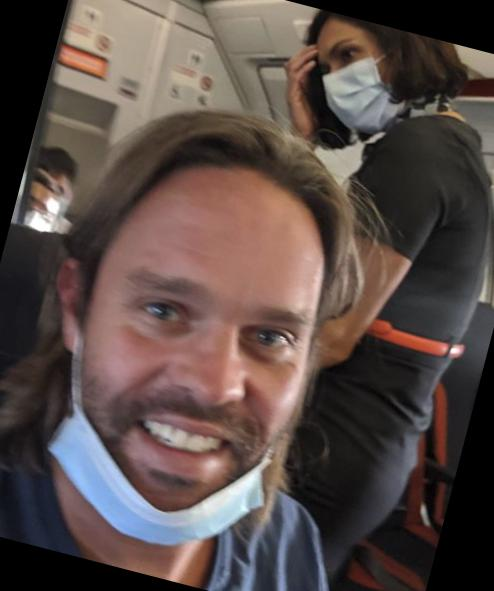mask_weared_incorrect: (46, 226, 324, 546)
with_mask: (296, 29, 411, 136)
